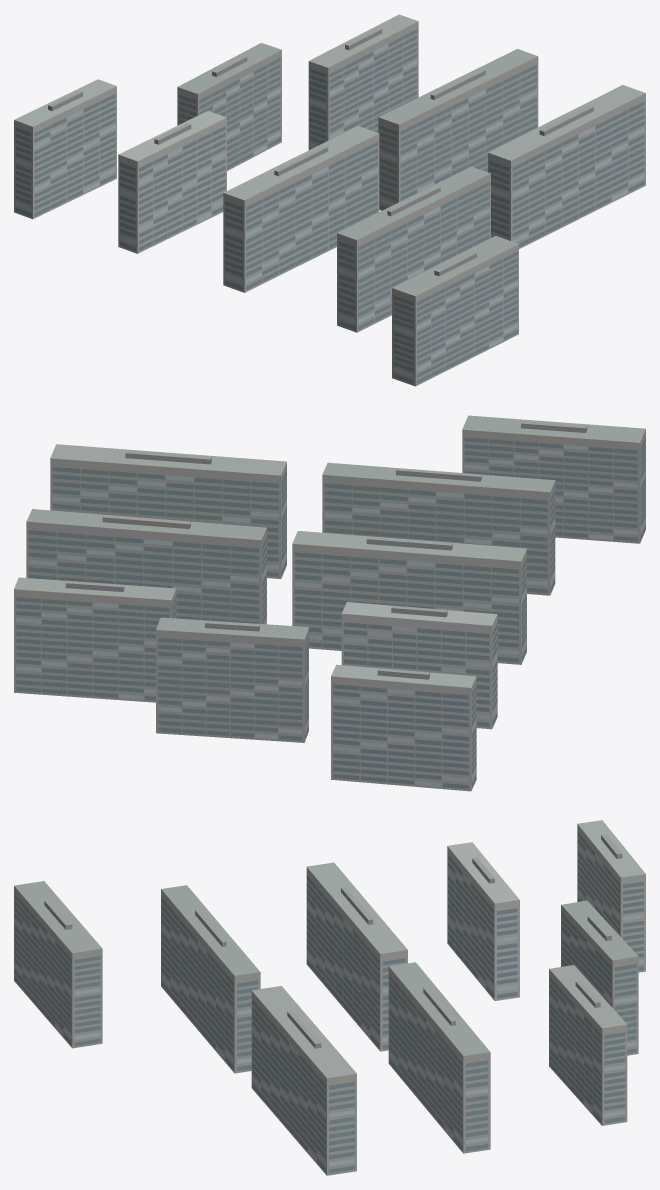
The model's file is apt-a13986009.glb.
3 views of the same model, one above another, from view 1: azimuth 30°, elevation 25°; view 2: azimuth 150°, elevation 25°; view 3: azimuth 270°, elevation 25° (orthographic). The views are drawn at different scales.
Parts seen in each view (by area): view 1: apt-a13986009; view 2: apt-a13986009; view 3: apt-a13986009.
Boxes of the visible parts, left/top/right/bottom form: apt-a13986009: left=14, top=14, right=645, bottom=386; apt-a13986009: left=14, top=415, right=645, bottom=791; apt-a13986009: left=14, top=820, right=645, bottom=1175.
Size of the model in its own units: 222 by 41 by 230.
